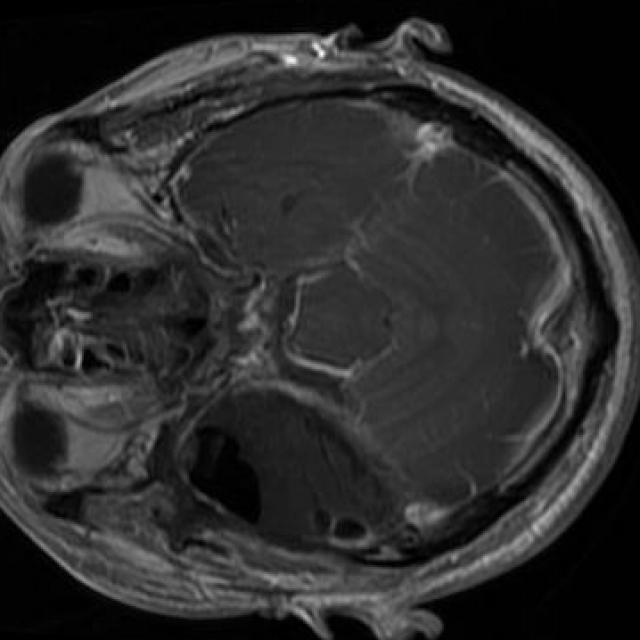glioma: (182, 392, 405, 544)
